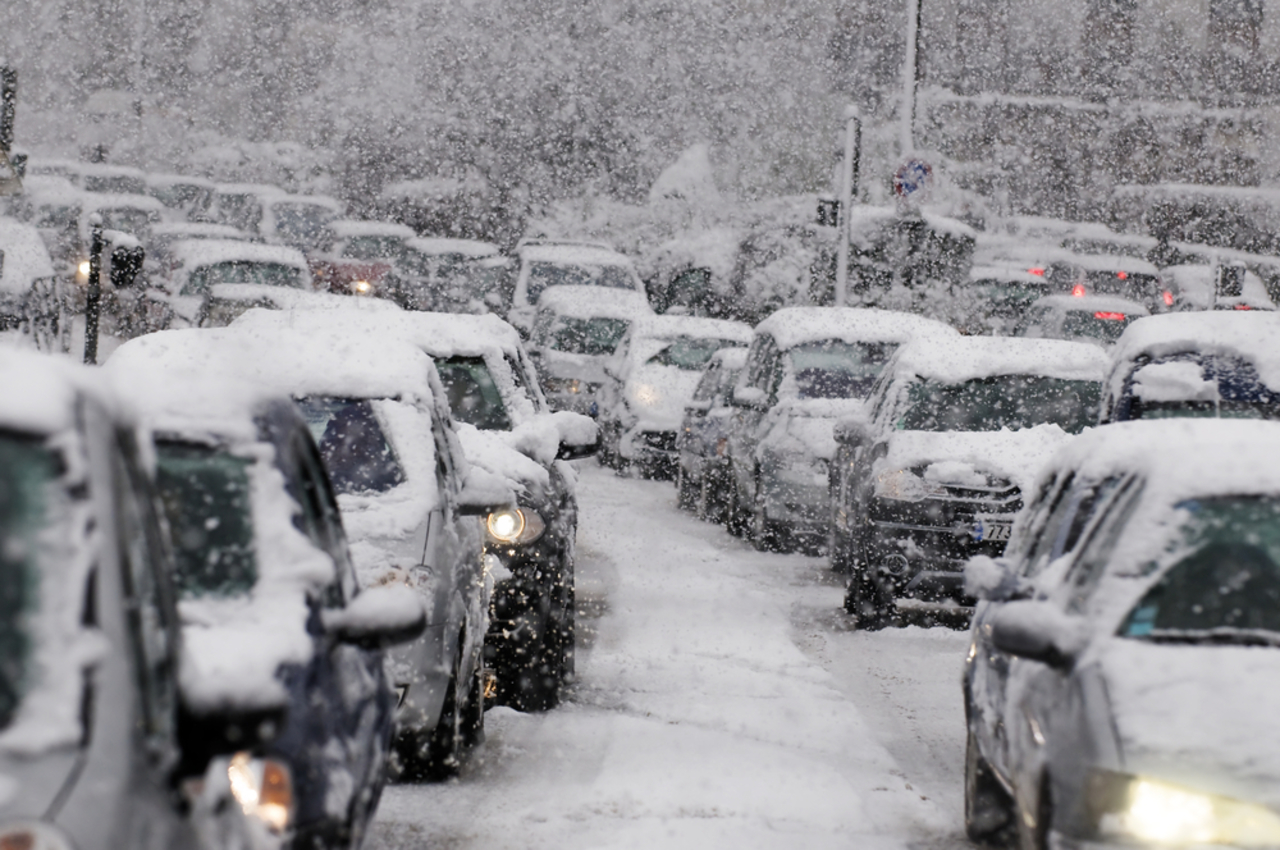car: (947, 424, 1275, 846), (155, 330, 475, 759), (835, 342, 1107, 607), (441, 320, 577, 707), (742, 313, 902, 553), (609, 315, 750, 479), (523, 286, 659, 451), (660, 330, 766, 505), (1018, 284, 1141, 363), (306, 215, 412, 295), (1054, 251, 1172, 318)
